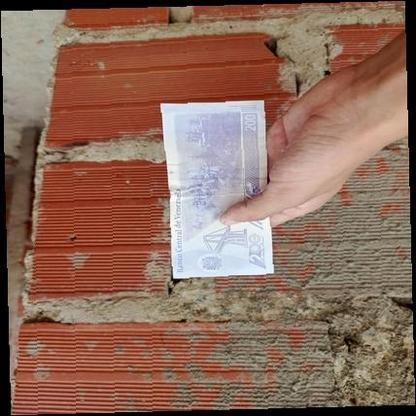two_hundred-back-vef: (159, 100, 274, 279)
